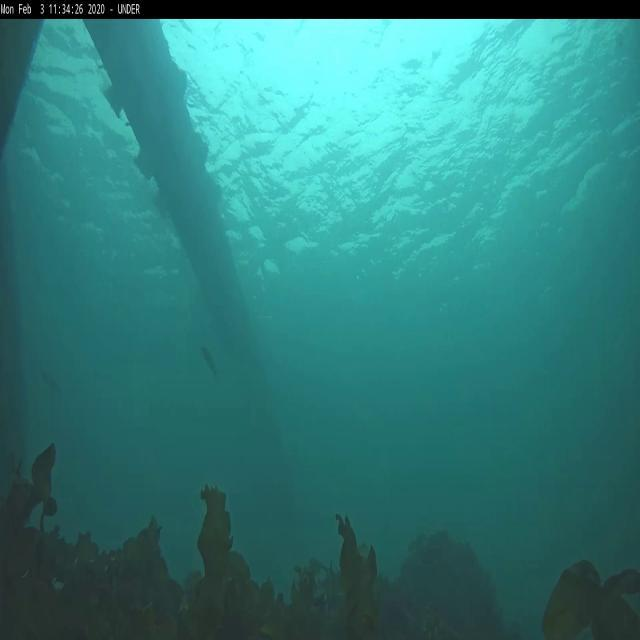fish: (200, 344, 220, 382), (42, 366, 62, 400)
